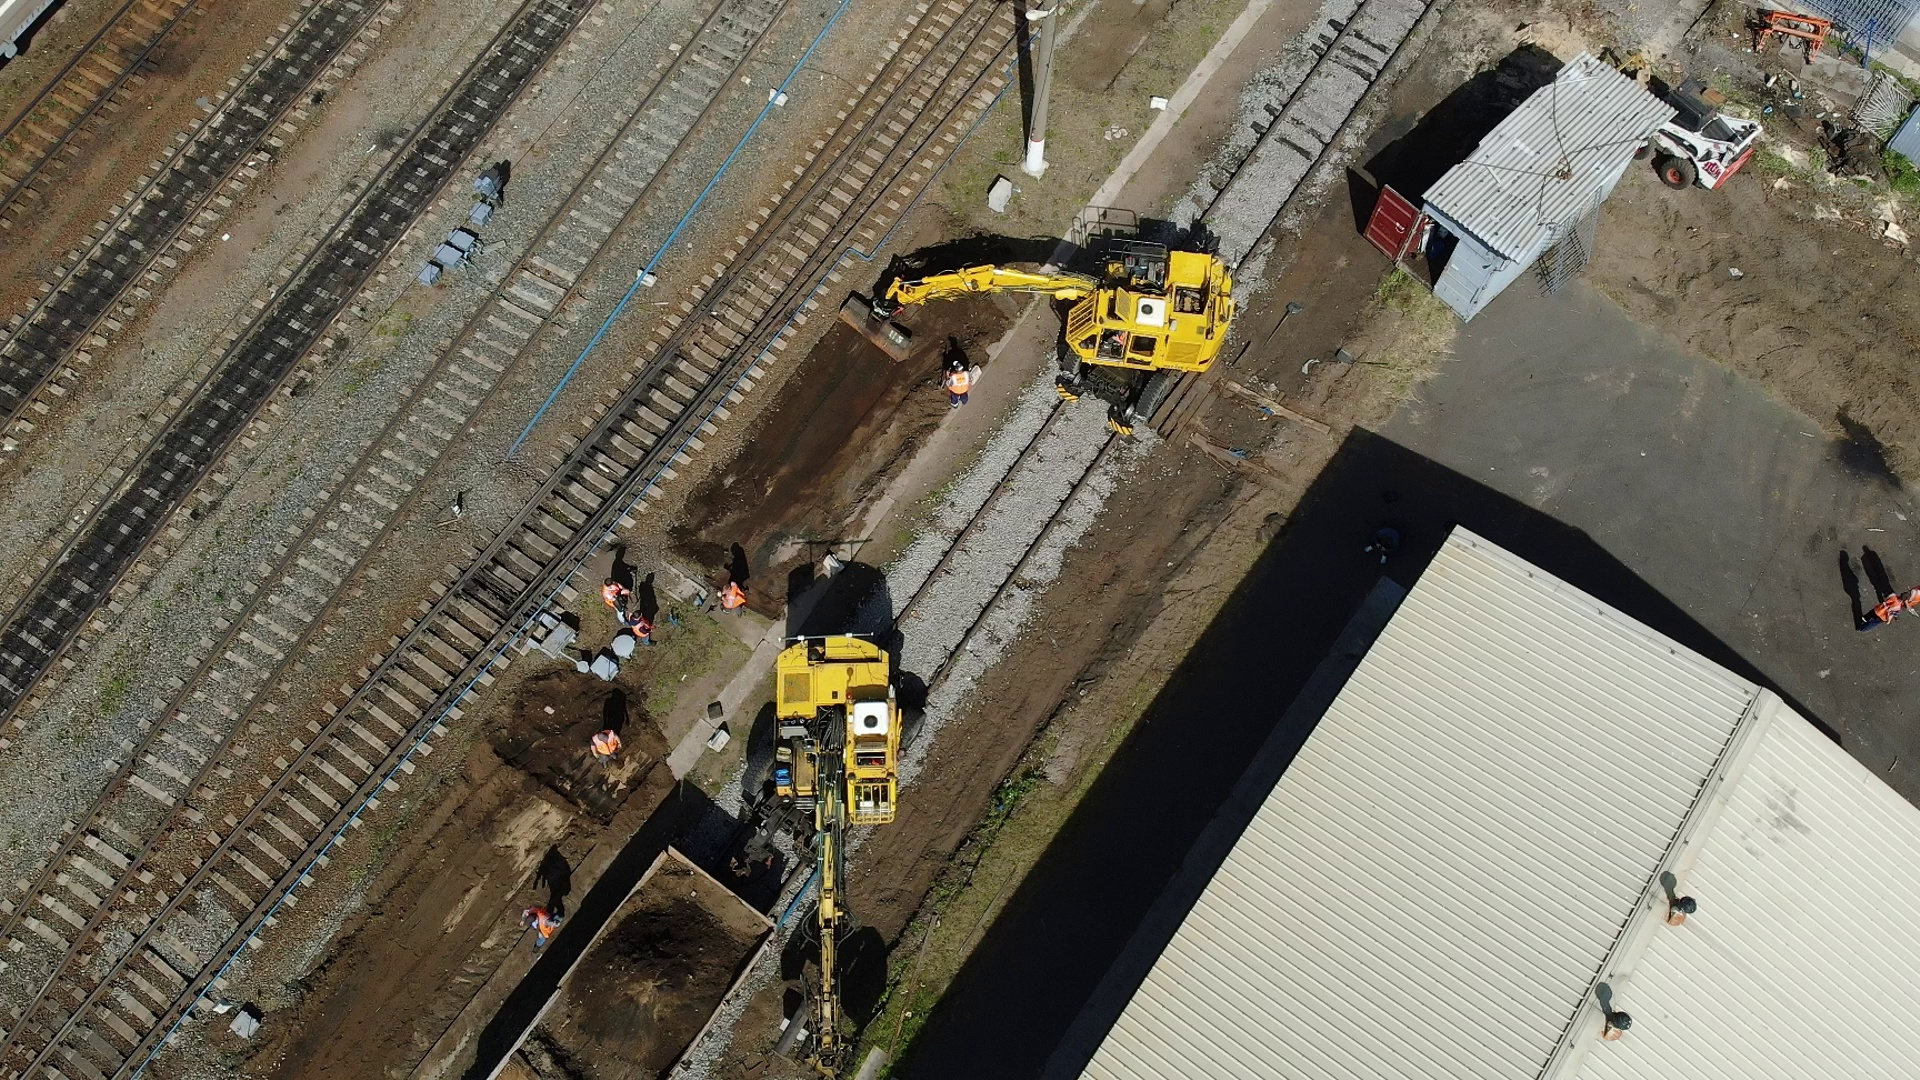kjtv: (1004, 237, 1240, 415), (742, 625, 911, 829)
